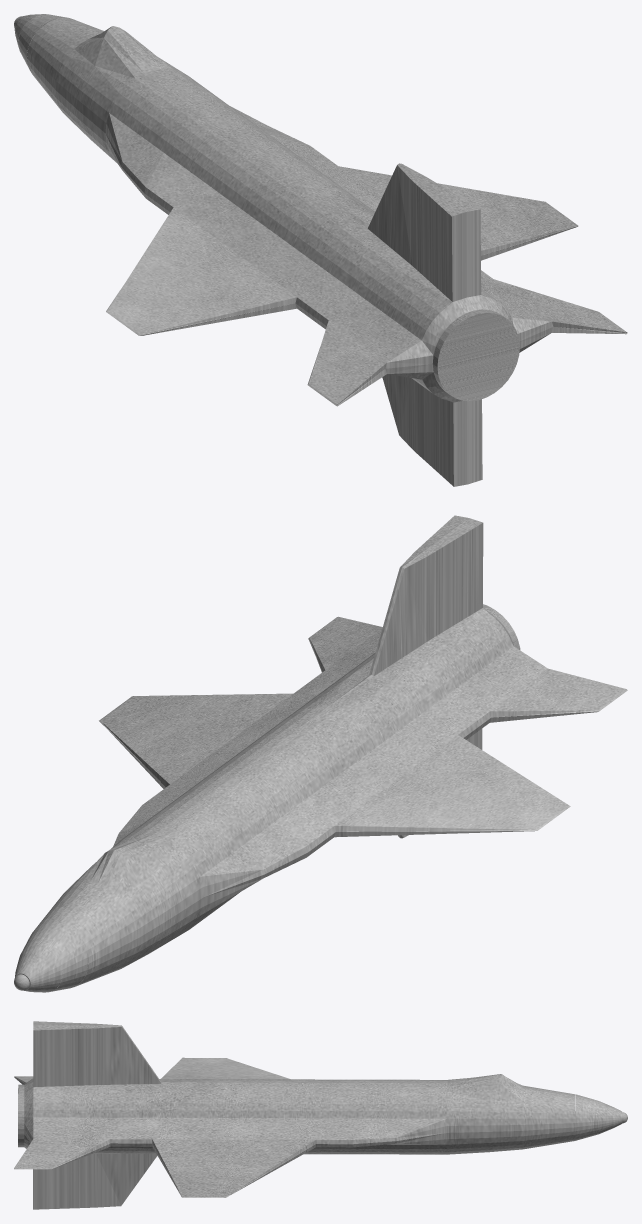
3 views of the same model, one above another, from view 1: azimuth 30°, elevation 25°; view 2: azimuth 150°, elevation 25°; view 3: azimuth 270°, elevation 25° (orthographic). The views are drawn at different scales.
Parts seen in each view (by area): view 1: Shape_IndexedFaceSet.029_Shape_IndexedFaceSet.063, Shape_IndexedFaceSet.030_Shape_IndexedFaceSet.064; view 2: Shape_IndexedFaceSet.029_Shape_IndexedFaceSet.063; view 3: Shape_IndexedFaceSet.029_Shape_IndexedFaceSet.063, Shape_IndexedFaceSet.030_Shape_IndexedFaceSet.064.
Boxes of the visible parts, <box> form: Shape_IndexedFaceSet.029_Shape_IndexedFaceSet.063: <box>14,14,627,486</box>; Shape_IndexedFaceSet.030_Shape_IndexedFaceSet.064: <box>14,16,519,401</box>; Shape_IndexedFaceSet.029_Shape_IndexedFaceSet.063: <box>14,515,627,992</box>; Shape_IndexedFaceSet.029_Shape_IndexedFaceSet.063: <box>14,1021,622,1209</box>; Shape_IndexedFaceSet.030_Shape_IndexedFaceSet.064: <box>18,1084,627,1147</box>.
Bounding box in the file's own units: 1.68 × 0.9942 × 3.07.
